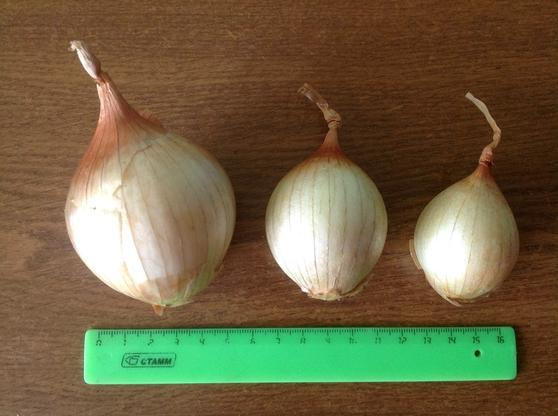onion: (57, 98, 242, 310), (259, 137, 392, 308), (402, 156, 527, 308)
